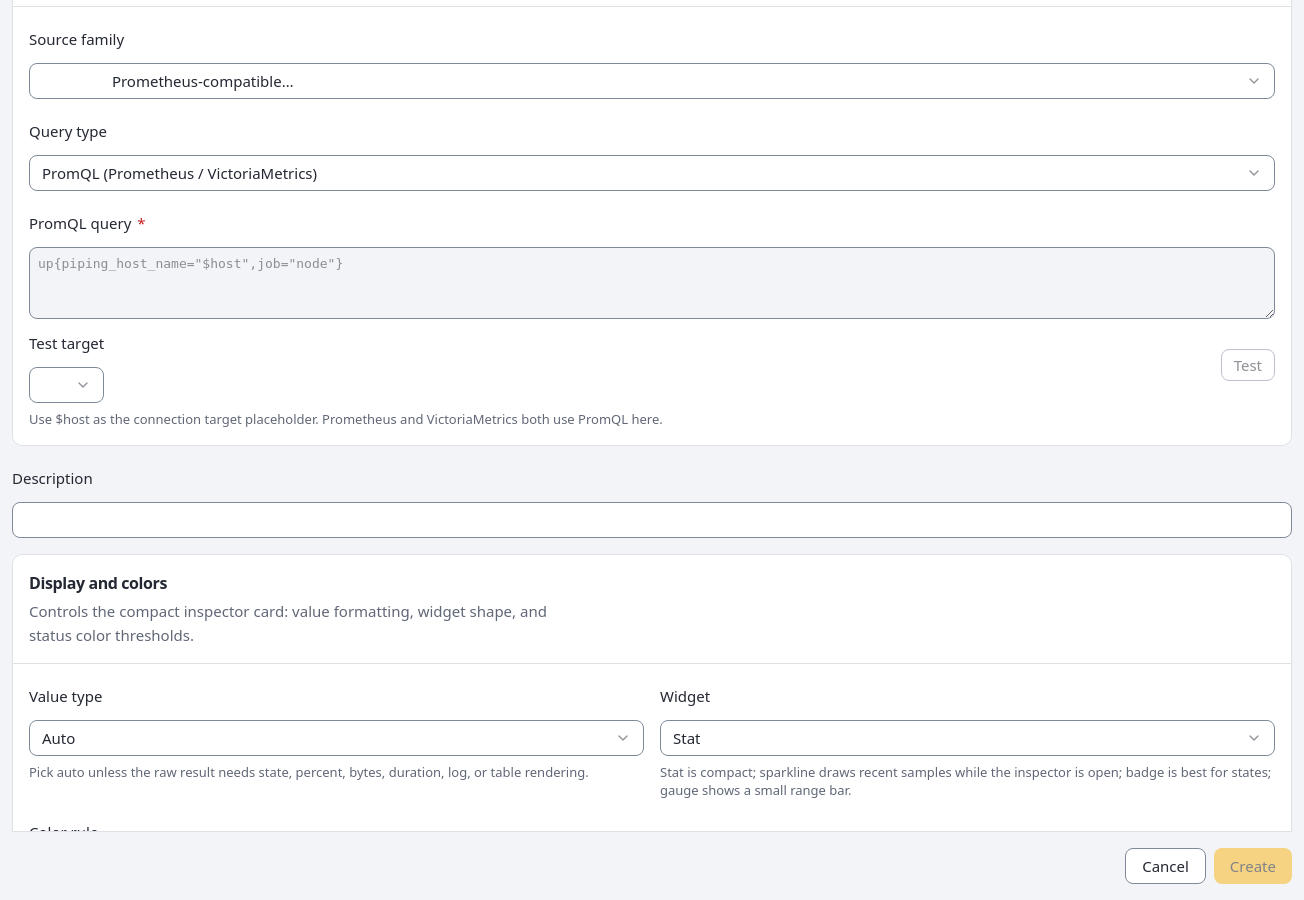
Scenario: Metric query editor test button › renders an upstream error in red without destroying the form
The image size is (1304, 900).
(page scrolled)
Type "up" into the text box with placeholder "up{piping_host_name=\"$host\",job=\"node\"}" at (652, 283), box [29,247,1275,319]
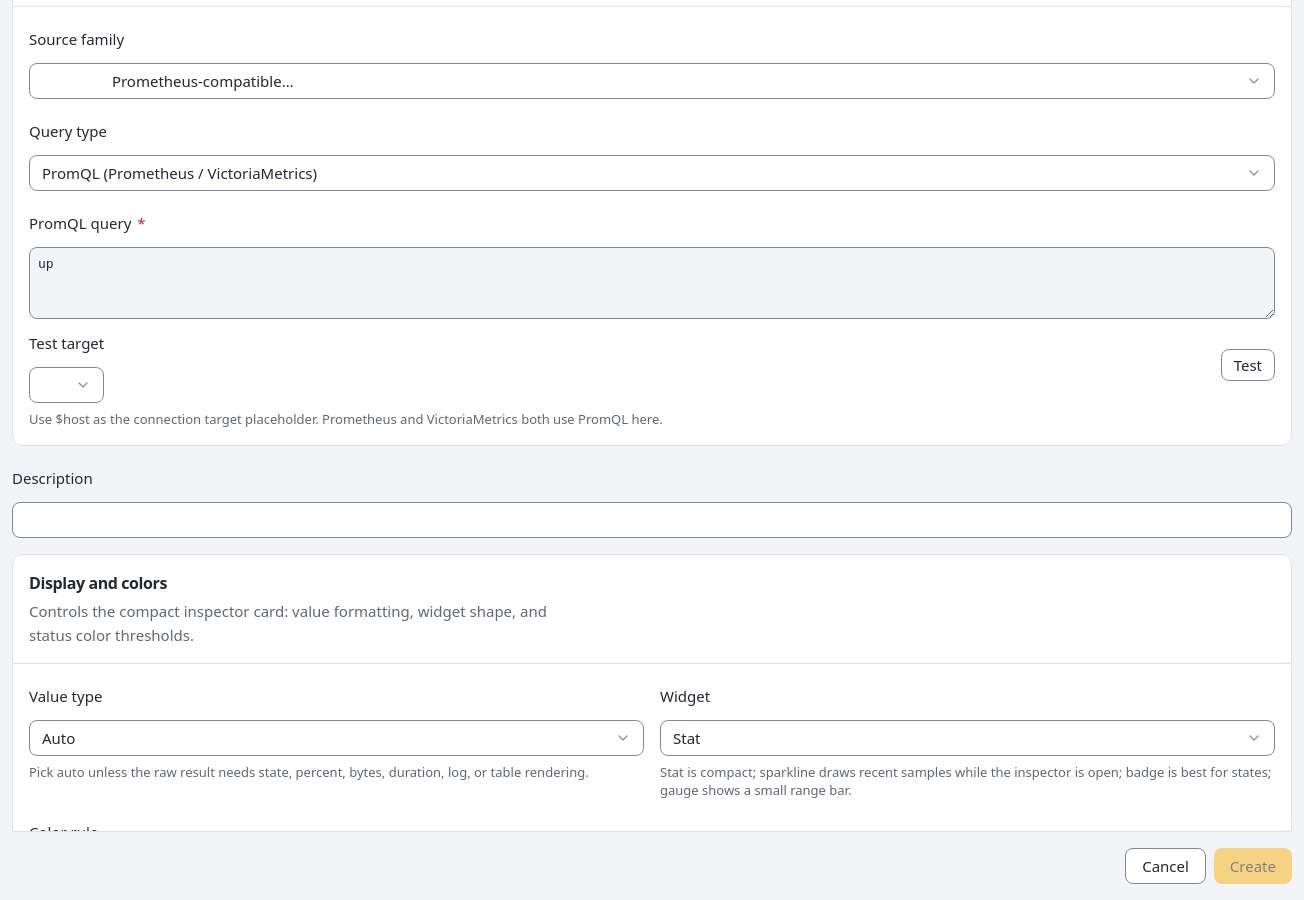
Click the button "Test" at (1248, 365), box [1221,349,1275,381]
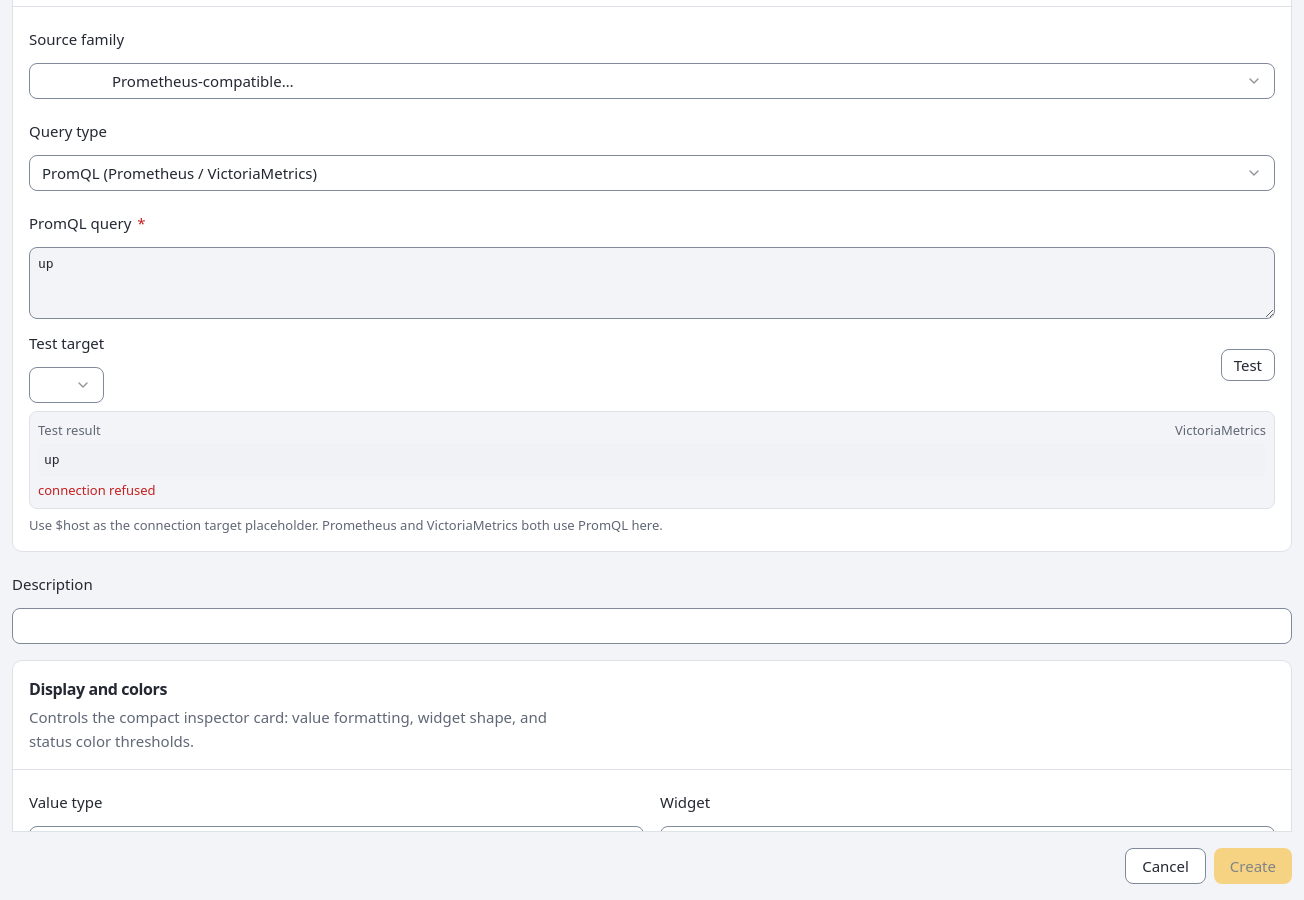
Expected: the text "connection refused" is shown, [38,481,156,499]
